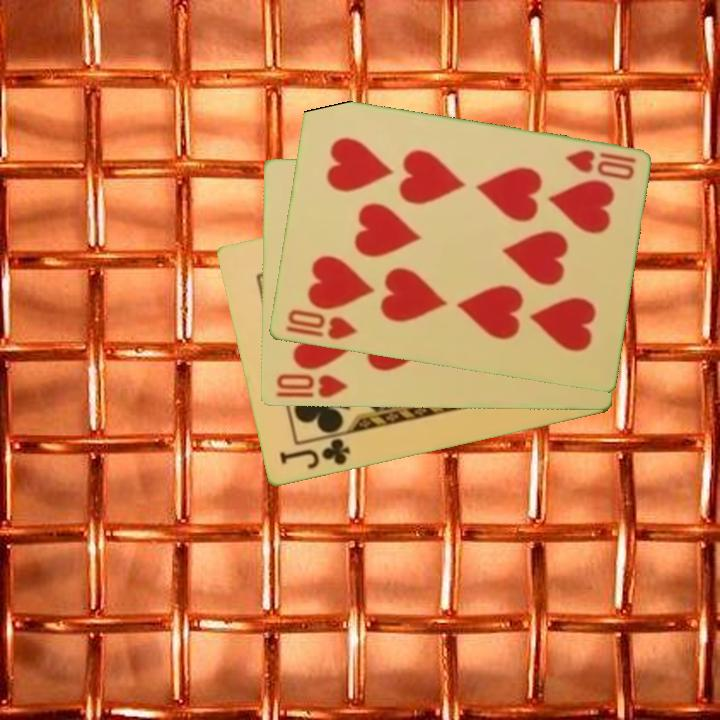10h: (281, 306, 360, 343), (561, 146, 639, 183), (272, 370, 350, 401)
Jc: (275, 435, 353, 473)
